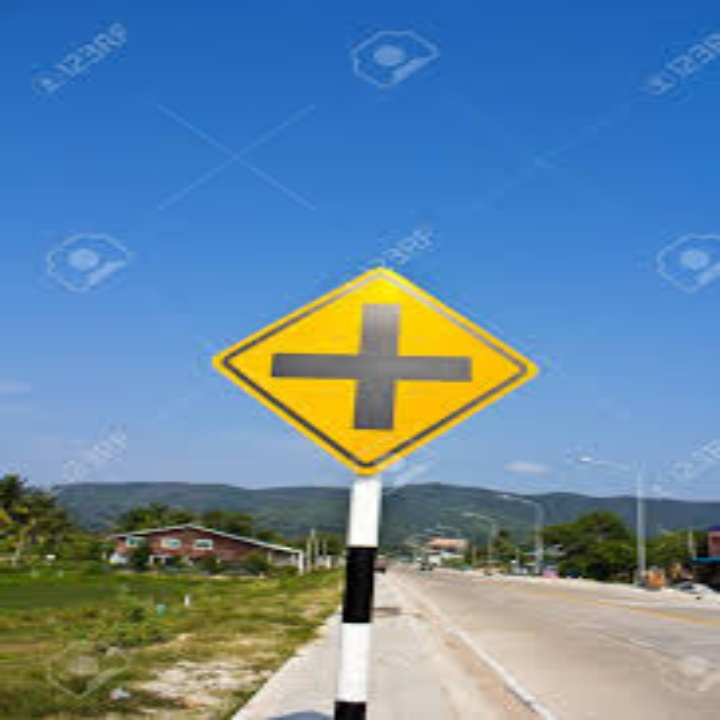inter: (269, 299, 477, 434)
